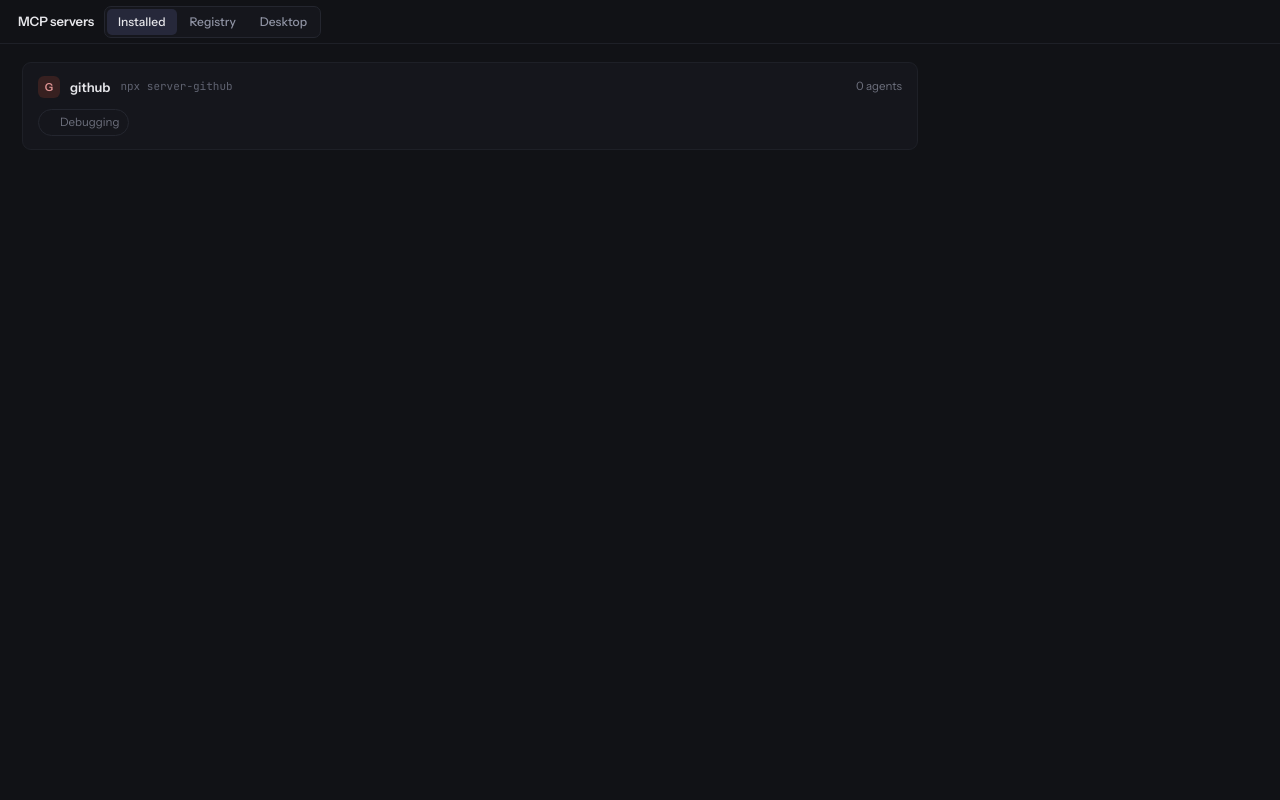
Test: McpServerModal — opening › clicking an installed server opens its editor
Click the button with aria-label "Configure github": (90, 87) [38,76,902,98]
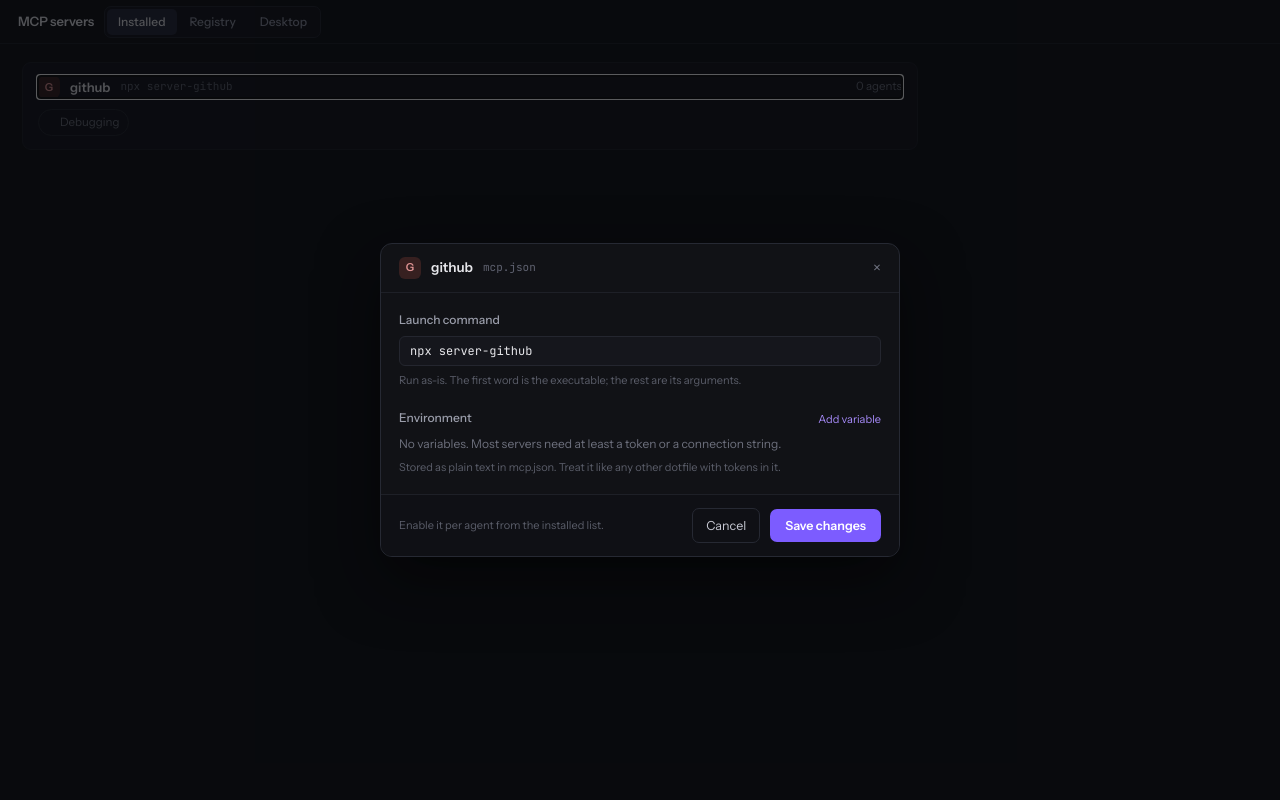
Check: the field named "Launch command" holds "npx server-github", box [399,336,881,366]
